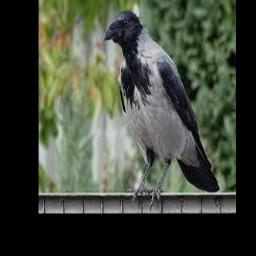Crow: (104, 10, 220, 211)
